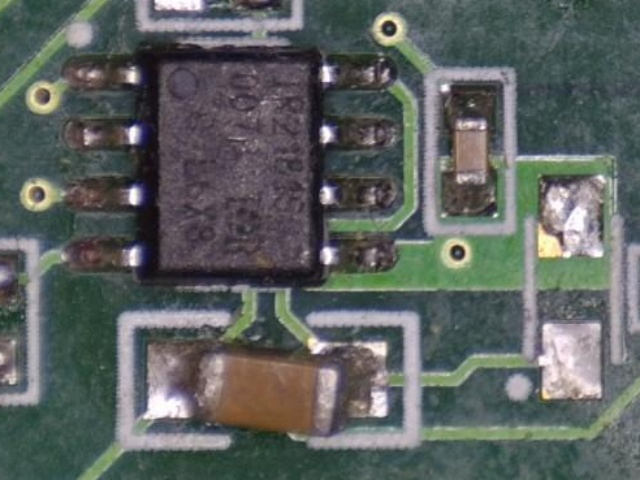pcb_defect: (145, 338, 390, 437)
